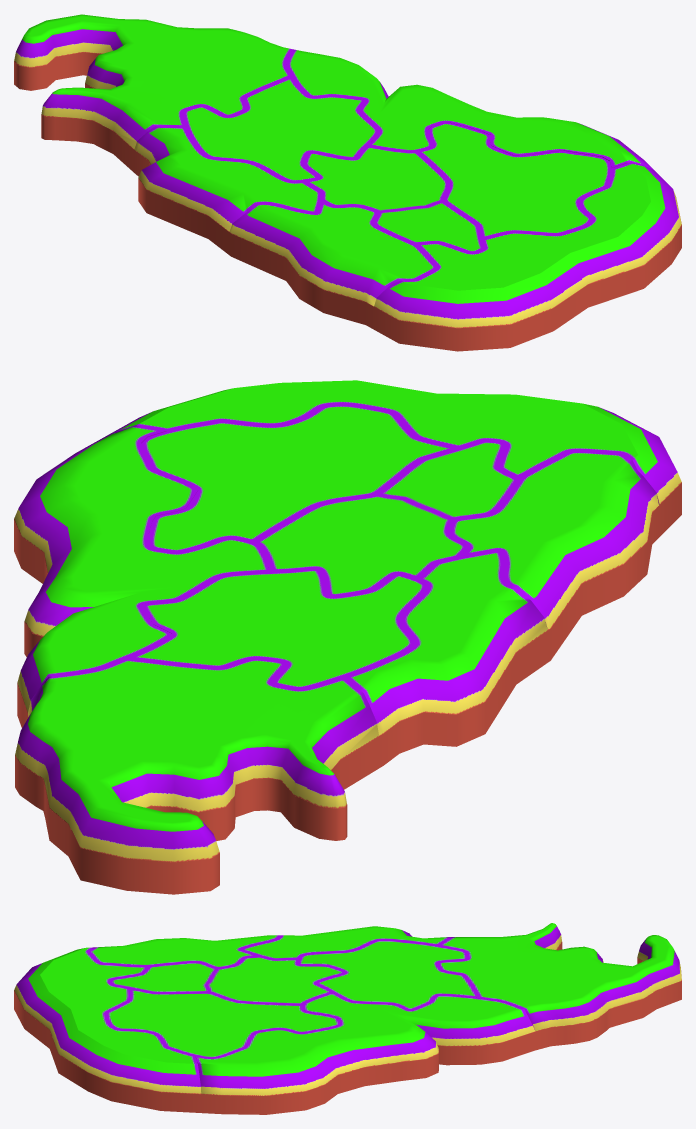
File: srilanka_provinces_cartoon_map.glb
The picture shows the model from 3 angles, top to bottom: view 1: azimuth 30°, elevation 25°; view 2: azimuth 150°, elevation 25°; view 3: azimuth 270°, elevation 25°; orthographic projection. The views are drawn at different scales.
Parts seen in each view (by area): view 1: Southern, Nothern, BASE, Uva, Eastern, Western, North Central, North Western, Central, Sabaragamuwa; view 2: Nothern, Eastern, Uva, BASE, North Central, Southern, Western, North Western, Central, Sabaragamuwa; view 3: Eastern, Nothern, Southern, BASE, Uva, North Central, Central, Western, North Western, Sabaragamuwa.
Part boxes in pixels (x1,y1,x2,y2): Southern: (374,162,681,328); Nothern: (14,14,292,149); BASE: (14,52,681,351); Uva: (417,122,611,238); Eastern: (286,49,653,169); Western: (229,201,437,306); North Central: (183,76,377,181); North Western: (134,126,322,231); Central: (299,145,449,212); Sabaragamuwa: (374,201,483,252); Nothern: (15,658,378,862); Eastern: (14,425,269,712); Uva: (141,404,456,551); BASE: (14,483,681,894); North Central: (126,568,428,690); Southern: (100,380,681,504); Western: (450,451,658,629); North Western: (345,550,547,735); Central: (252,494,467,595); Sabaragamuwa: (376,440,519,519); Eastern: (195,992,535,1095); Nothern: (438,923,681,1031); Southern: (14,947,201,1094); BASE: (14,942,681,1114); Uva: (106,988,339,1057); North Central: (298,940,479,1010); Central: (206,956,344,1004); Western: (90,935,280,967); North Western: (242,926,451,959); Sabaragamuwa: (111,962,216,992).
Size of the model in its own units: 12.59 by 1.4 by 22.2.
Materials: 10 (1 with a texture image).
